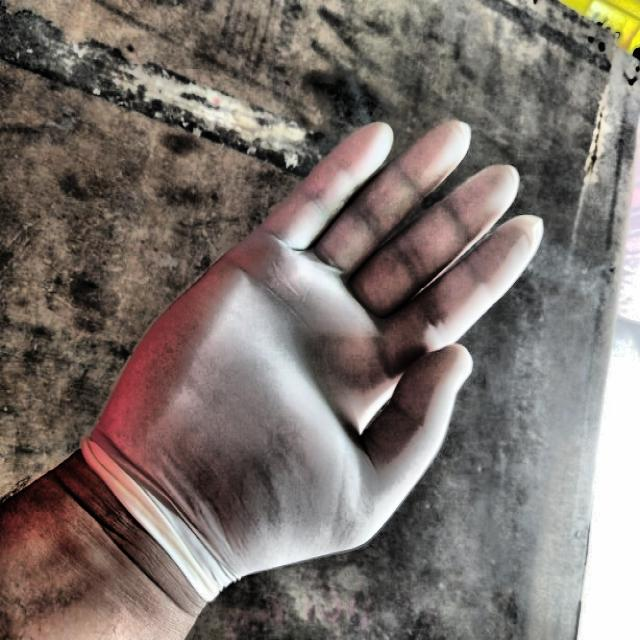gloved: (77, 114, 552, 612)
